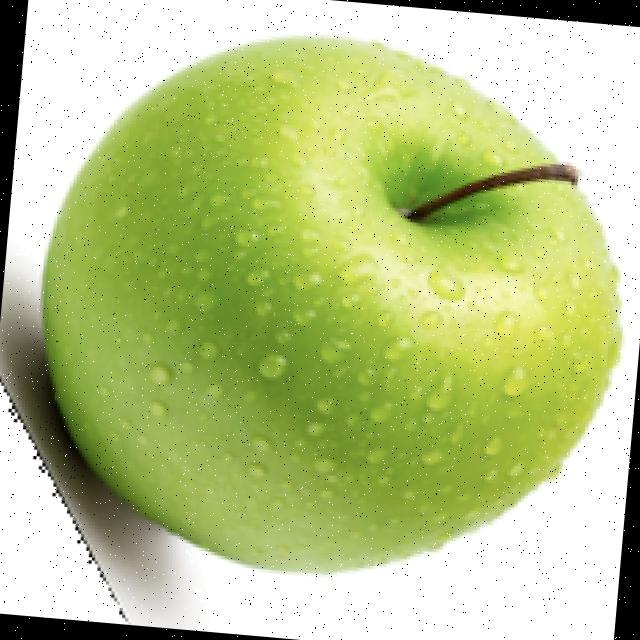apple: (0, 29, 627, 623)
